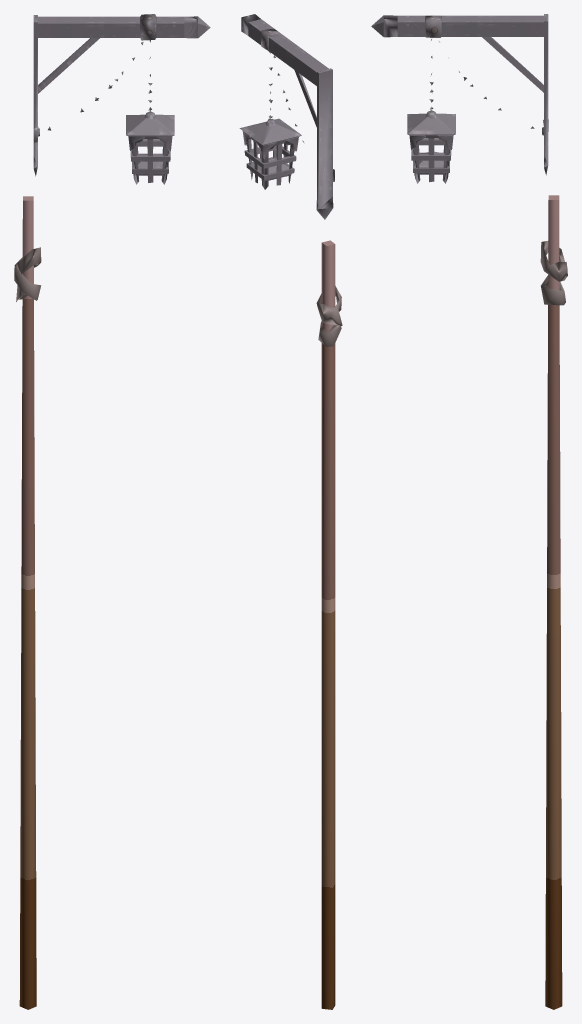
The model's file is QuayLamp.medium.gltf.
The picture shows the model from 3 angles, left to right: view 1: azimuth 90°, elevation 25°; view 2: azimuth 210°, elevation 25°; view 3: azimuth 270°, elevation 25°; orthographic projection. The views are drawn at different scales.
Parts seen in each view (by area): view 1: Environment_Dock_Pole, Lantern_Wall; view 2: Environment_Dock_Pole, Lantern_Wall; view 3: Environment_Dock_Pole, Lantern_Wall.
Boxes of the visible parts, bbox=[...] form: Environment_Dock_Pole: bbox=[14, 196, 41, 1009]; Lantern_Wall: bbox=[33, 14, 210, 184]; Environment_Dock_Pole: bbox=[316, 240, 342, 1009]; Lantern_Wall: bbox=[239, 14, 334, 219]; Environment_Dock_Pole: bbox=[540, 195, 567, 1009]; Lantern_Wall: bbox=[371, 14, 548, 183].
Bounding box in the file's own units: 0.411 × 9.22 × 1.66.
2 materials, 2 textured.
